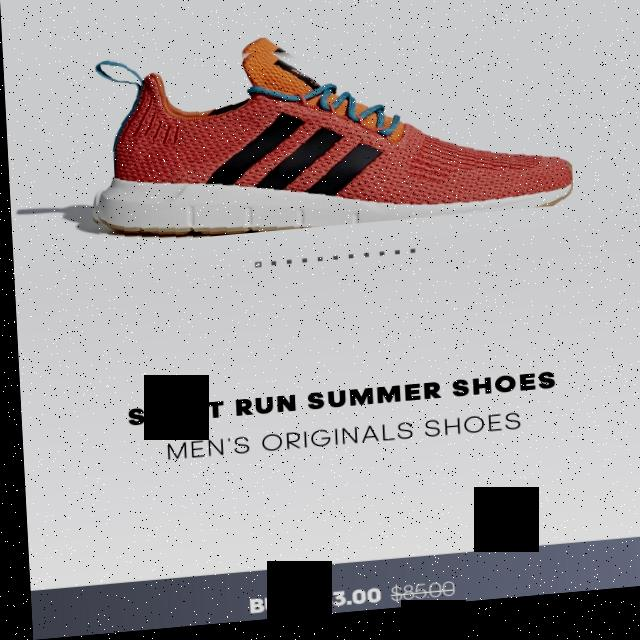shoe: (83, 26, 571, 248)
